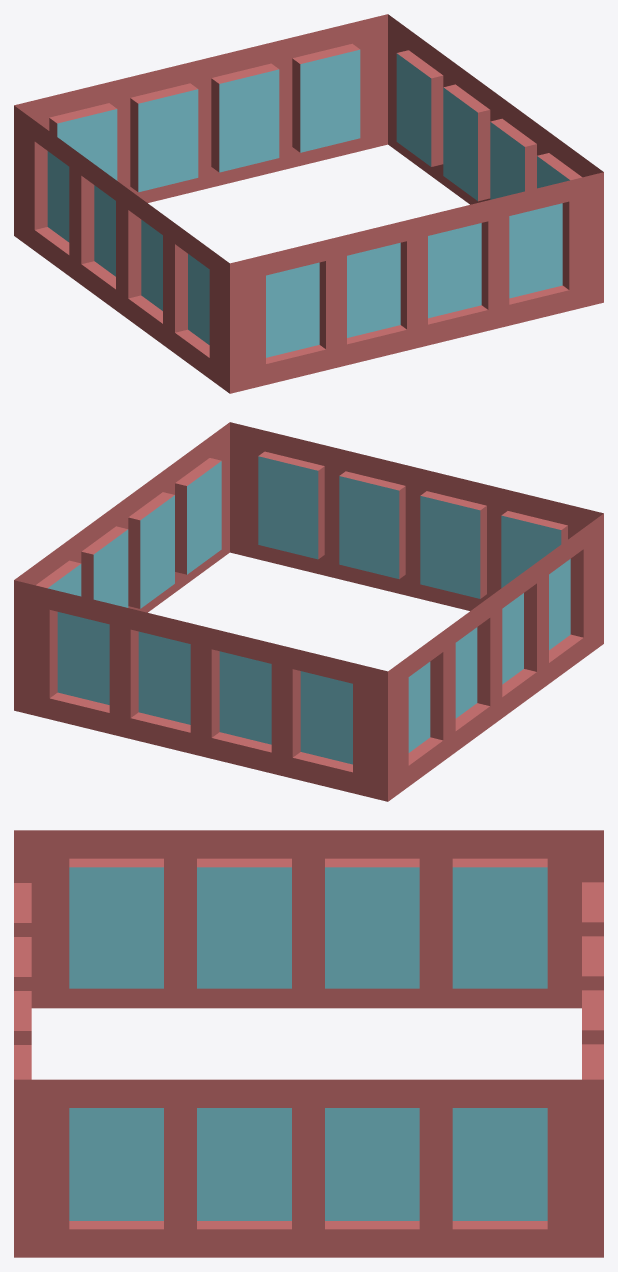
The model's file is SkyScraper_Middle_01.fbx.
3 views of the same model, one above another, from view 1: azimuth 30°, elevation 25°; view 2: azimuth 150°, elevation 25°; view 3: azimuth 270°, elevation 25° (orthographic). The views are drawn at different scales.
Parts seen in each view (by area): view 1: SkyScraper_Middle_02; view 2: SkyScraper_Middle_02; view 3: SkyScraper_Middle_02.
Boxes of the visible parts, left/top/right/bottom form: SkyScraper_Middle_02: left=14, top=14, right=603, bottom=393; SkyScraper_Middle_02: left=14, top=422, right=603, bottom=801; SkyScraper_Middle_02: left=14, top=830, right=603, bottom=1257.
Size of the model in its own units: 96 by 32 by 96.
